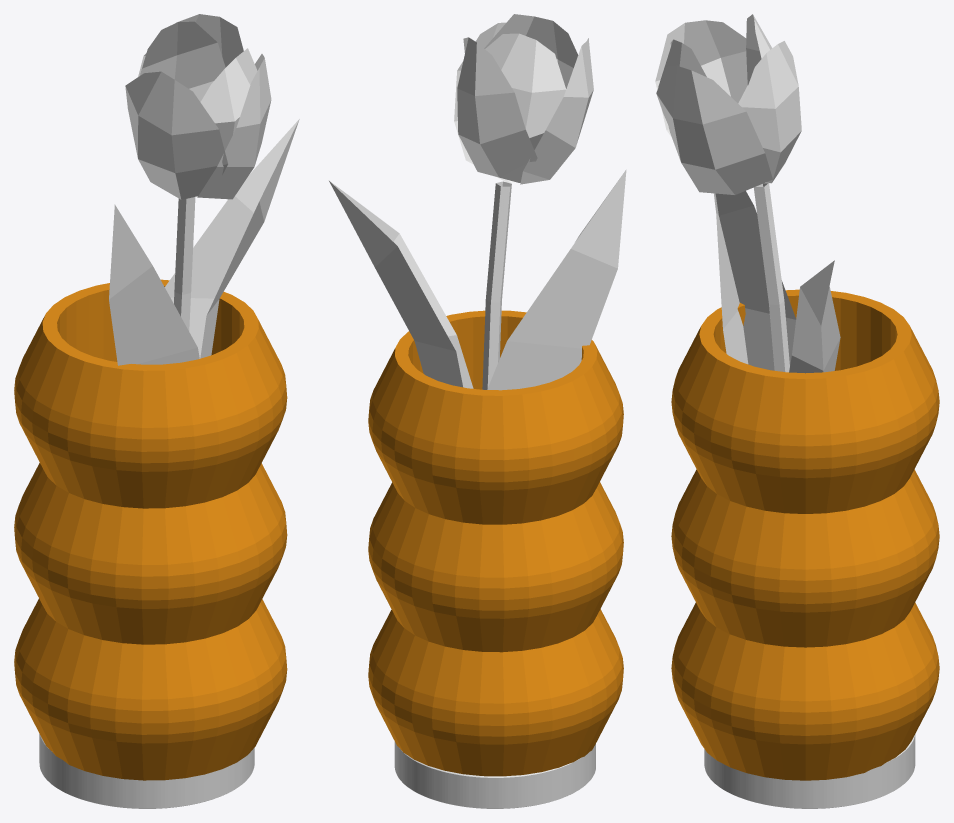
The model's file is Model.stories.flower_2.glb.
3 renders of one model, left to right at view 1: azimuth 30°, elevation 25°; view 2: azimuth 150°, elevation 25°; view 3: azimuth 270°, elevation 25°, orthographic. The views are drawn at different scales.
Parts seen in each view (by area): view 1: 円柱.002, hana, ha, 円柱; view 2: 円柱.002, ha, hana, 円柱; view 3: 円柱.002, hana, ha, 円柱.
Boxes of the visible parts, <box> form: 円柱.002: <box>14,279,287,780</box>; hana: <box>125,14,271,199</box>; ha: <box>109,119,299,365</box>; 円柱: <box>39,734,254,808</box>; 円柱.002: <box>368,310,623,776</box>; ha: <box>329,169,626,390</box>; hana: <box>454,14,593,184</box>; 円柱: <box>394,741,595,808</box>; 円柱.002: <box>671,289,939,780</box>; hana: <box>655,14,801,194</box>; ha: <box>713,183,840,373</box>; 円柱: <box>704,734,915,808</box>.
Bounding box in the file's own units: 0.5364 × 1.38 × 0.477.
